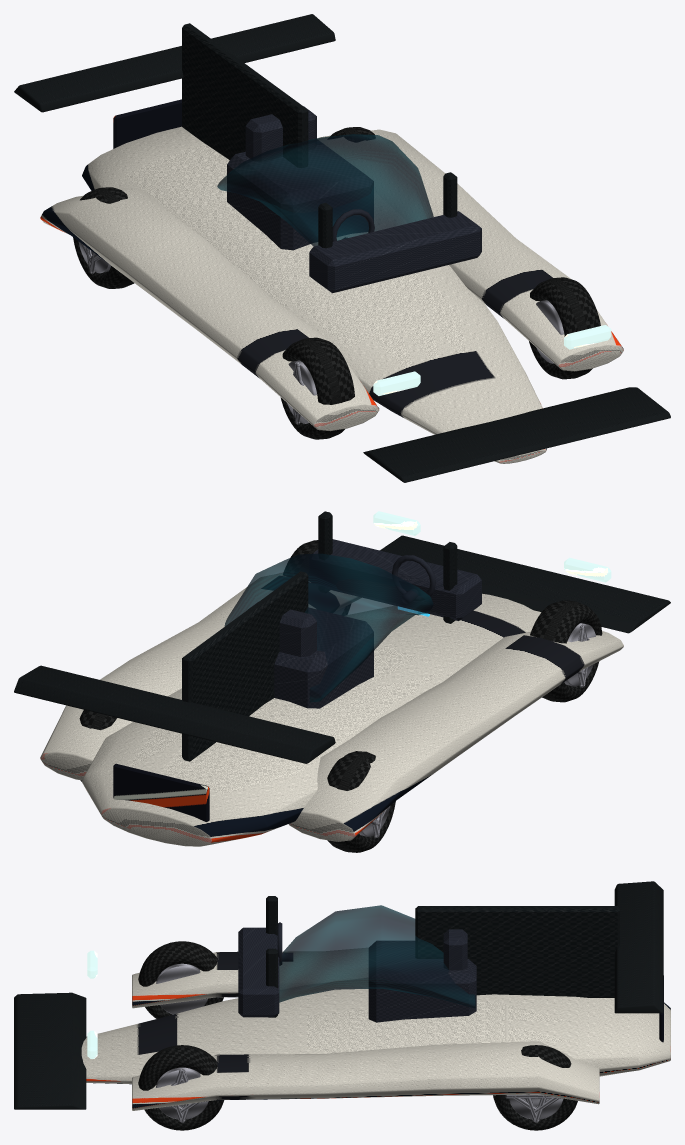
The model's file is car-prototype.glb.
3 views of the same model, one above another, from view 1: azimuth 30°, elevation 25°; view 2: azimuth 150°, elevation 25°; view 3: azimuth 270°, elevation 25° (orthographic). The views are drawn at different scales.
Visible parts, largest first — view 1: COCKPIT_HIDE_PROTO_TUB, PROTO_FENDER_-1, PROTO_FENDER_1, COCKPIT_HIDE_PROTO_CANOPY, PROTO_FRONT_SPLITTER, PROTO_SEAT, PROTO_FIN, PROTO_REAR_WING, PROTO_DASH, FL_TYRE.002, FR_TYRE.002, PROTO_NUMBER_PANEL (+4 smaller); view 2: COCKPIT_HIDE_PROTO_TUB, PROTO_FENDER_-1, COCKPIT_HIDE_PROTO_CANOPY, PROTO_REAR_WING, PROTO_FIN, PROTO_FENDER_1, PROTO_FRONT_SPLITTER, PROTO_DASH, PROTO_SEAT, PROTO_NUMBER_PANEL, FL_TYRE.002, RL_TYRE.002 (+8 smaller); view 3: COCKPIT_HIDE_PROTO_TUB, PROTO_FENDER_1, PROTO_FIN, COCKPIT_HIDE_PROTO_CANOPY, PROTO_FRONT_SPLITTER, PROTO_SEAT, PROTO_REAR_WING, PROTO_FENDER_-1, PROTO_DASH, FR_TYRE.002, FL_TYRE.002, RR_TYRE.002 (+6 smaller).
Part boxes in pixels (<box>): COCKPIT_HIDE_PROTO_TUB: <box>82,126,546,463</box>; PROTO_FENDER_-1: <box>40,189,379,431</box>; PROTO_FENDER_1: <box>317,129,623,371</box>; COCKPIT_HIDE_PROTO_CANOPY: <box>217,134,433,246</box>; PROTO_FRONT_SPLITTER: <box>363,387,670,482</box>; PROTO_SEAT: <box>227,139,373,250</box>; PROTO_FIN: <box>182,23,308,167</box>; PROTO_REAR_WING: <box>14,14,335,112</box>; PROTO_DASH: <box>309,211,481,293</box>; FL_TYRE.002: <box>280,337,354,439</box>; FR_TYRE.002: <box>529,277,600,379</box>; PROTO_NUMBER_PANEL: <box>113,99,181,148</box>; COCKPIT_HIDE_PROTO_TUB: <box>82,593,541,846</box>; PROTO_FENDER_-1: <box>288,631,623,841</box>; COCKPIT_HIDE_PROTO_CANOPY: <box>224,553,433,702</box>; PROTO_REAR_WING: <box>14,665,335,763</box>; PROTO_FIN: <box>182,571,308,761</box>; PROTO_FENDER_1: <box>40,573,360,780</box>; PROTO_FRONT_SPLITTER: <box>380,535,670,633</box>; PROTO_DASH: <box>309,539,481,620</box>; PROTO_SEAT: <box>274,607,373,708</box>; PROTO_NUMBER_PANEL: <box>113,763,209,821</box>; FL_TYRE.002: <box>530,600,602,702</box>; RL_TYRE.002: <box>327,751,395,852</box>; COCKPIT_HIDE_PROTO_TUB: <box>81,978,670,1084</box>; PROTO_FENDER_1: <box>132,1041,599,1110</box>; PROTO_FIN: <box>415,906,619,997</box>; COCKPIT_HIDE_PROTO_CANOPY: <box>279,905,475,1008</box>; PROTO_FRONT_SPLITTER: <box>14,992,86,1109</box>; PROTO_SEAT: <box>368,940,476,1022</box>; PROTO_REAR_WING: <box>614,881,663,1013</box>; PROTO_FENDER_-1: <box>132,948,368,1008</box>; PROTO_DASH: <box>238,927,279,1017</box>; FR_TYRE.002: <box>138,1045,223,1130</box>; FL_TYRE.002: <box>138,941,223,1018</box>; RR_TYRE.002: <box>493,1045,577,1130</box>.
Size of the model in its own units: 2.54 by 1.41 by 4.97.
Materials: 11 (11 with a texture image).
